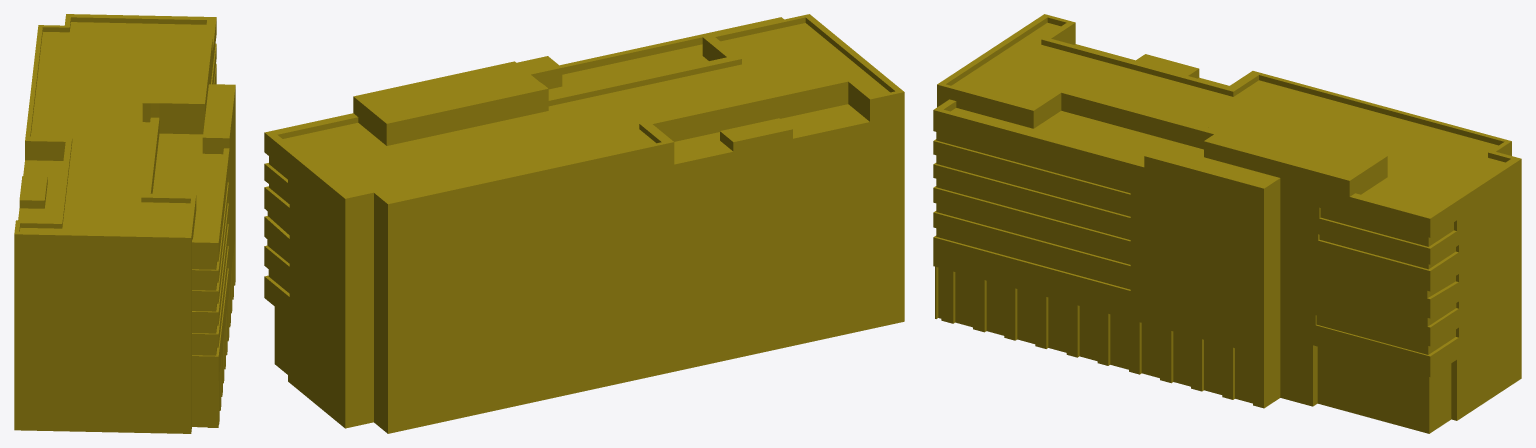
3 views of the same model, side by side, from view 1: azimuth 30°, elevation 25°; view 2: azimuth 150°, elevation 25°; view 3: azimuth 270°, elevation 25° (orthographic). The views are drawn at different scales.
Visible parts, largest first — view 1: mesh1.007; view 2: mesh1.007; view 3: mesh1.007.
Boxes of the visible parts, x1,y1,x2,y2 form: mesh1.007: (14, 14, 235, 433); mesh1.007: (264, 14, 904, 433); mesh1.007: (933, 14, 1521, 433).
Size of the model in its own units: 4989 by 2678 by 6057.
